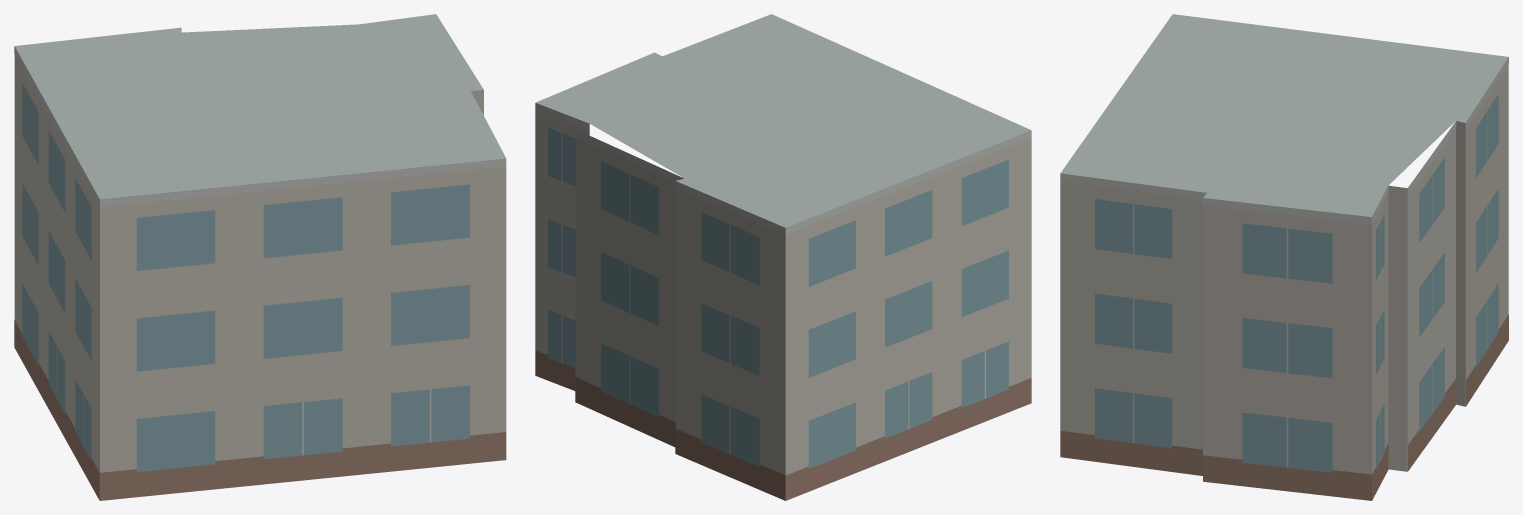
Rendered from survey-upis-32508815.glb.
3 renders of one model, left to right at view 1: azimuth 30°, elevation 25°; view 2: azimuth 150°, elevation 25°; view 3: azimuth 270°, elevation 25°, orthographic. The views are drawn at different scales.
Visible parts, largest first — view 1: survey-upis-32508815.tmp; view 2: survey-upis-32508815.tmp; view 3: survey-upis-32508815.tmp.
Part boxes in pixels (left/top/right/bottom): survey-upis-32508815.tmp: left=14, top=14, right=506, bottom=500; survey-upis-32508815.tmp: left=535, top=14, right=1031, bottom=500; survey-upis-32508815.tmp: left=1060, top=14, right=1508, bottom=500.
Size of the model in its own units: 14.06 by 9.15 by 13.11.
